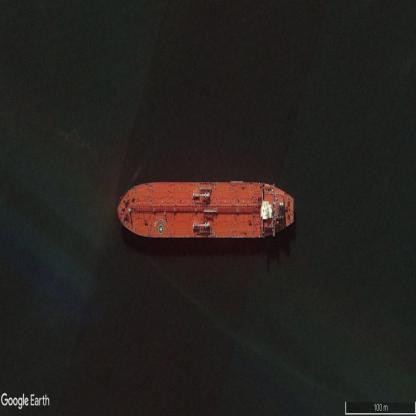ship: (118, 180, 294, 238)
